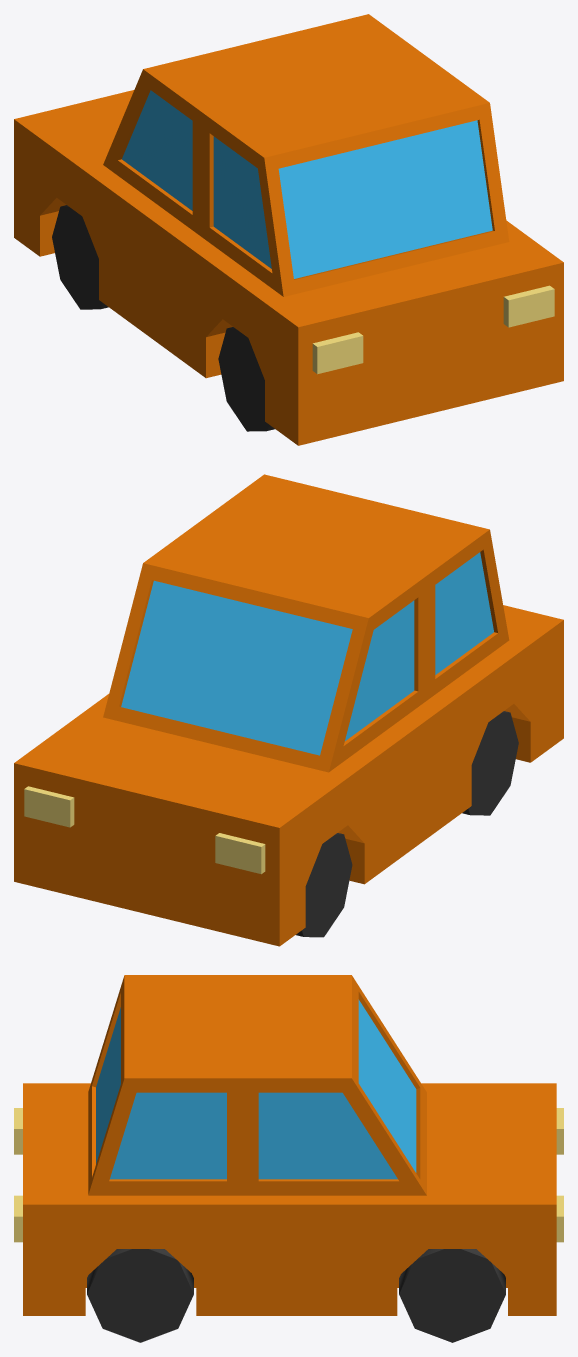
Rendered from toy_car.glb.
The picture shows the model from 3 angles, top to bottom: view 1: azimuth 30°, elevation 25°; view 2: azimuth 150°, elevation 25°; view 3: azimuth 270°, elevation 25°; orthographic projection. The views are drawn at different scales.
Parts seen in each view (by area): view 1: Toy Car 1; view 2: Toy Car 1; view 3: Toy Car 1.
Part boxes in pixels (<box>): Toy Car 1: <box>14,14,563,445</box>; Toy Car 1: <box>14,474,563,946</box>; Toy Car 1: <box>14,975,563,1342</box>.
Size of the model in its own units: 0.126 by 0.1259 by 0.2409.
1 material, 1 textured.
